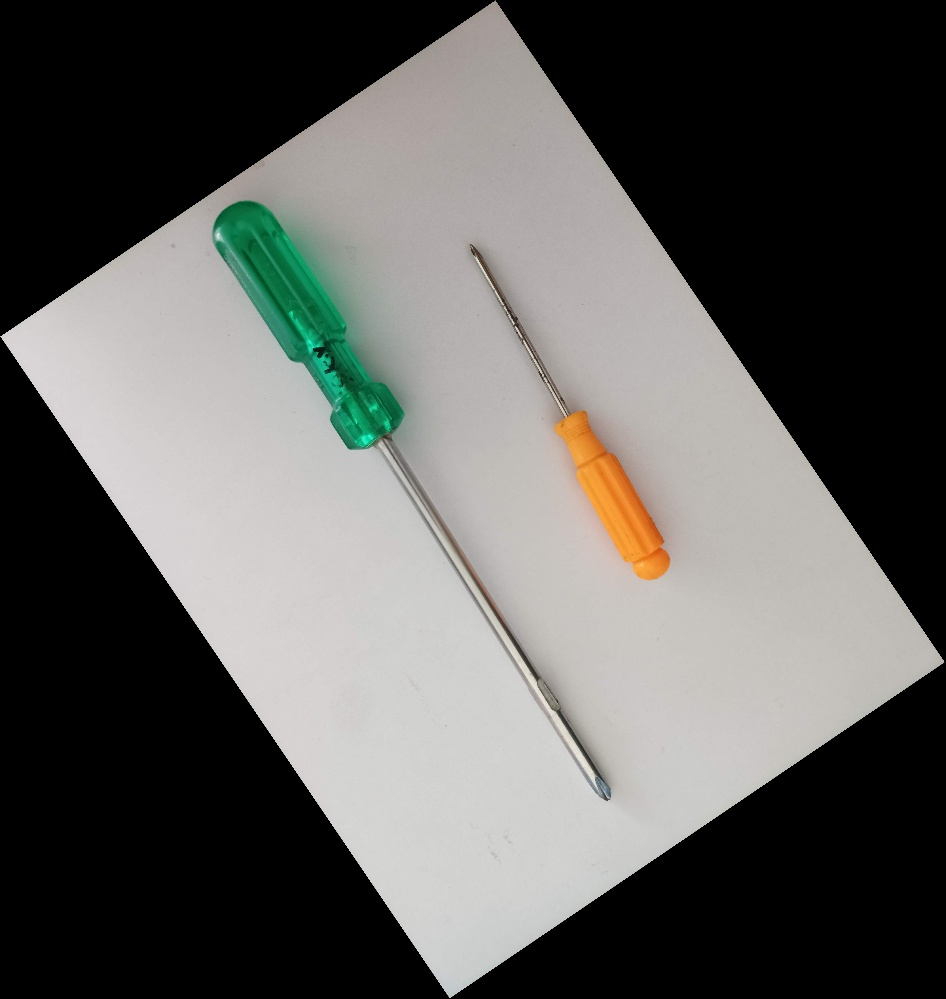screwdriver: (209, 196, 614, 805), (463, 235, 674, 581)
